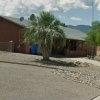Tree: (21, 10, 65, 58)
